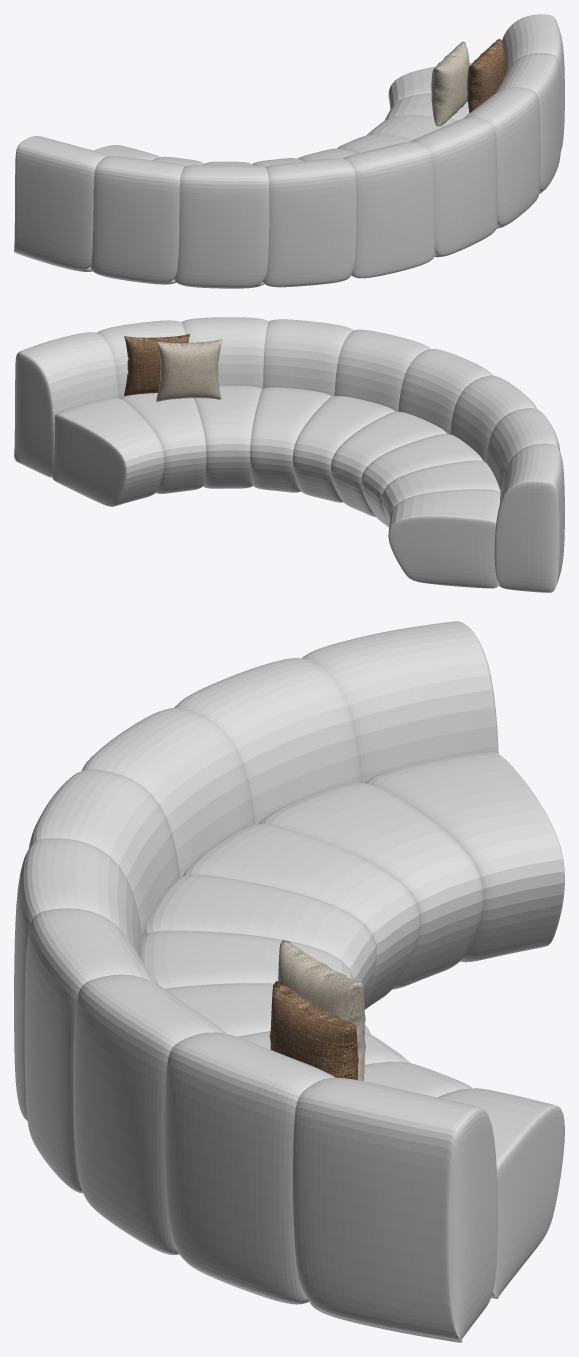
File: canapea2.glb
3 views of the same model, one above another, from view 1: azimuth 30°, elevation 25°; view 2: azimuth 150°, elevation 25°; view 3: azimuth 270°, elevation 25° (orthographic). The views are drawn at different scales.
Parts seen in each view (by area): view 1: Cube, Plane.001, Plane; view 2: Cube, Plane.001, Plane; view 3: Cube, Plane, Plane.001.
Boxes of the visible parts, x1,y1,x2,y2 form: Cube: (14,14,564,288); Plane.001: (431,41,469,126); Plane: (467,39,505,112); Cube: (14,317,564,592); Plane.001: (156,339,222,401); Plane: (124,334,190,396); Cube: (14,621,564,1342); Plane: (269,981,358,1080); Plane.001: (278,940,365,1081).
Bounding box in the file's own units: 6.59 × 1.53 × 2.96.
3 materials, 2 textured.
